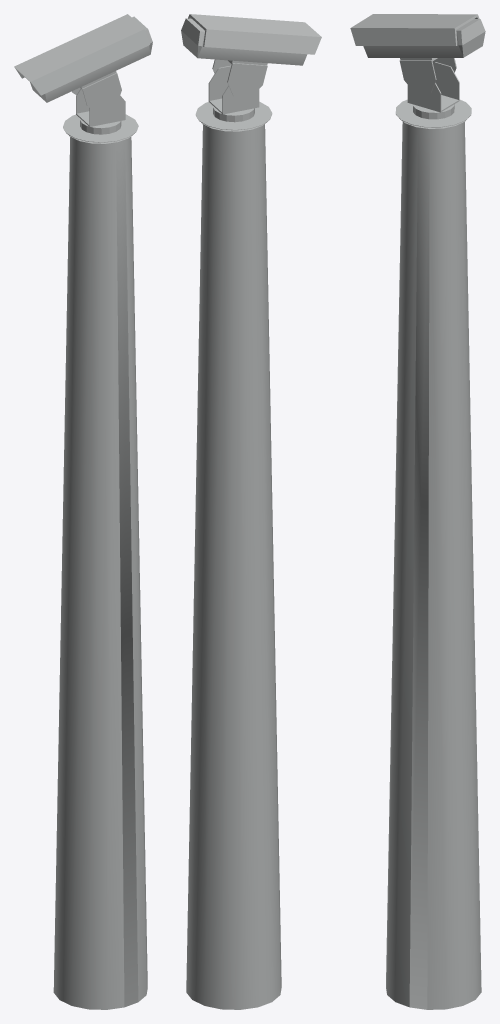
The model's file is nonline.FBX.
3 views of the same model, side by side, from view 1: azimuth 30°, elevation 25°; view 2: azimuth 210°, elevation 25°; view 3: azimuth 330°, elevation 25° (orthographic).
Visible parts, largest first — view 1: body, Box001, Object002; view 2: body, Box001, Object002; view 3: body, Box001, Object002.
Part boxes in pixels (<box>): body: <box>53,133,147,1009</box>; Box001: <box>14,14,152,113</box>; Object002: <box>63,89,138,142</box>; body: <box>186,121,281,1009</box>; Box001: <box>181,14,321,97</box>; Object002: <box>195,65,272,130</box>; body: <box>386,118,481,1009</box>; Box001: <box>350,14,485,93</box>; Object002: <box>395,62,471,127</box>.
Bounding box in the file's own units: 290 × 2236 × 200.
